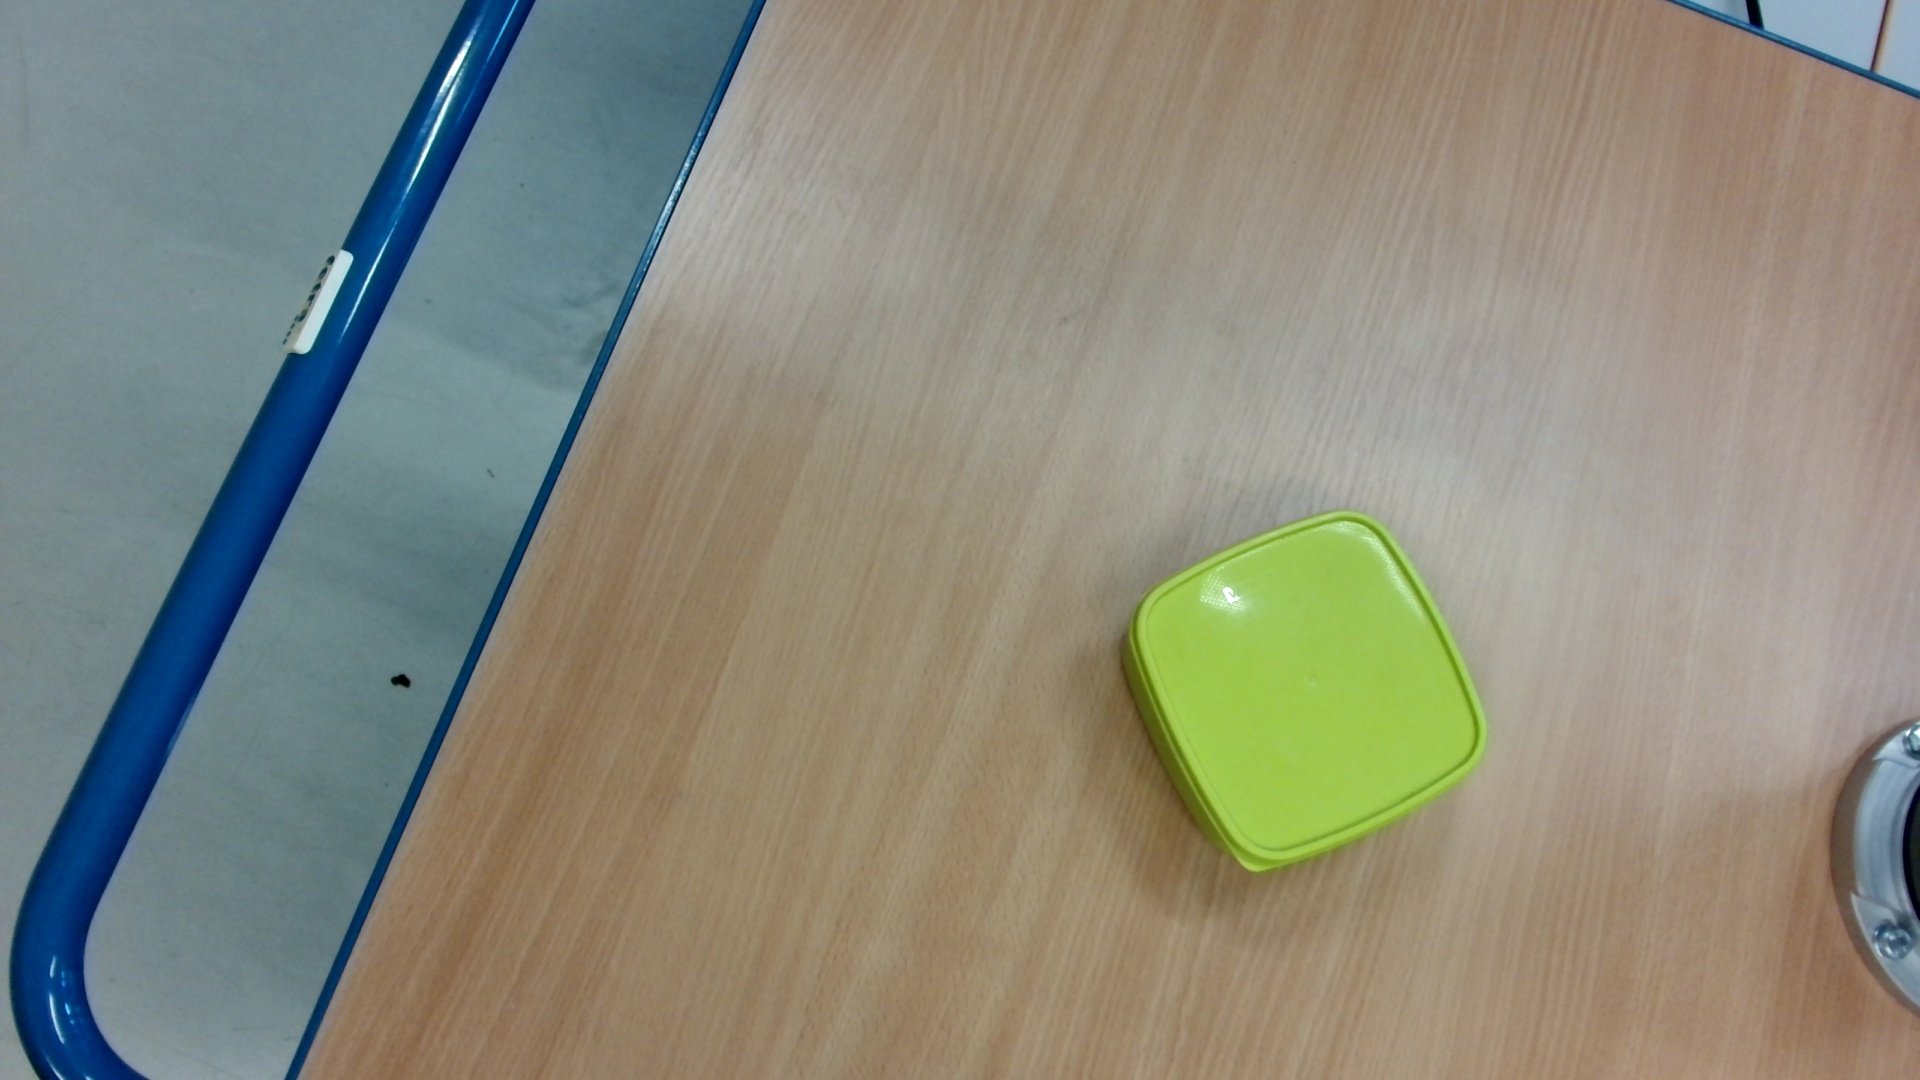Box: (1116, 506, 1495, 880)
